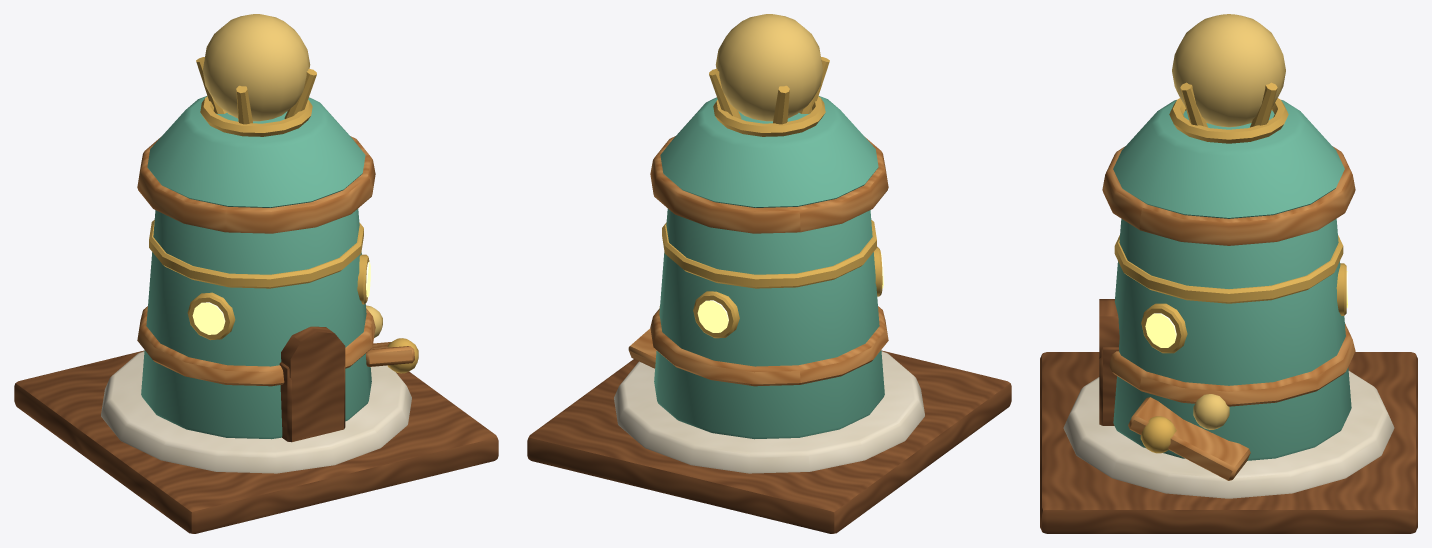
Rendered from atelier_billes.glb.
3 views of the same model, side by side, from view 1: azimuth 30°, elevation 25°; view 2: azimuth 150°, elevation 25°; view 3: azimuth 270°, elevation 25° (orthographic). The views are drawn at different scales.
Parts seen in each view (by area): view 1: atelier_billes; view 2: atelier_billes; view 3: atelier_billes.
Boxes of the visible parts, left/top/right/bottom form: atelier_billes: left=14, top=14, right=498, bottom=533; atelier_billes: left=527, top=14, right=1011, bottom=533; atelier_billes: left=1040, top=14, right=1417, bottom=533.
Size of the model in its own units: 1.72 by 2.2 by 1.72.
Materials: 7 (3 with a texture image).
